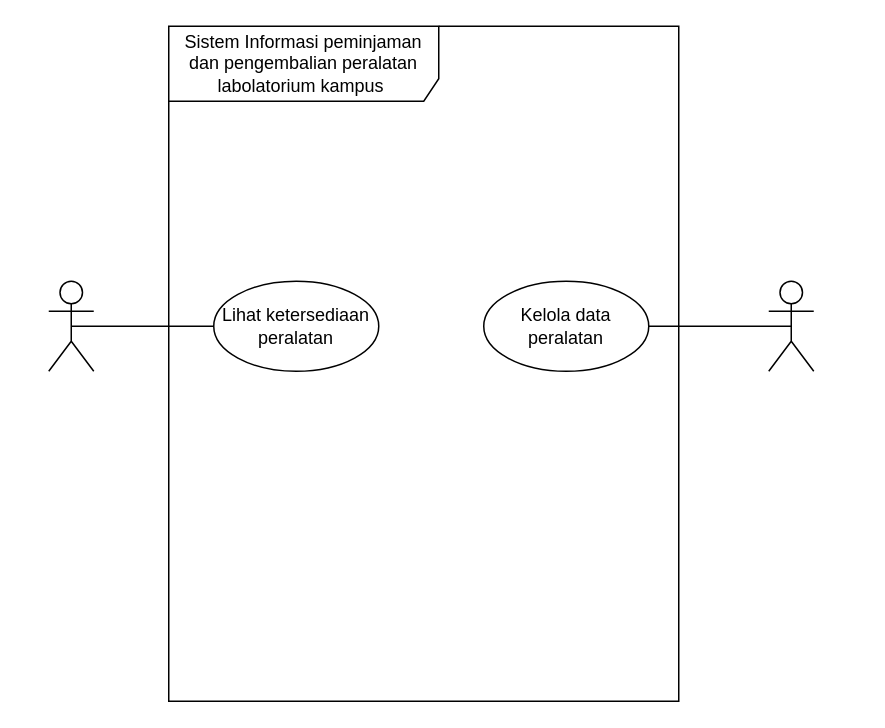
Some shapes in this 885 by 728 pixel diagram are drawn without their labels. Each missing label, with the centre of its shape:
"Mahasiswa" belongs at (70,325).
"Petugas Laboran" belongs at (790,325).
